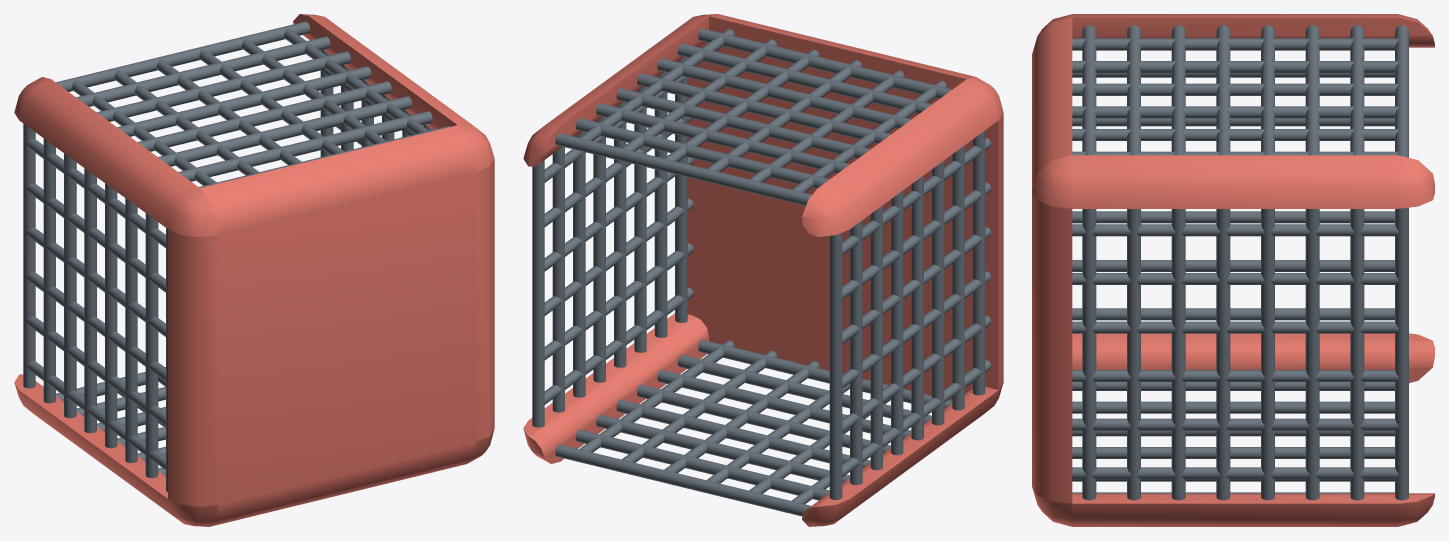
3 views of the same model, side by side, from view 1: azimuth 30°, elevation 25°; view 2: azimuth 150°, elevation 25°; view 3: azimuth 270°, elevation 25° (orthographic). The views are drawn at different scales.
Visible parts, largest first — view 1: Cube, Cylinder.030, Cylinder.035, Cylinder.044, Cylinder.003; view 2: Cube, Cylinder.030, Cylinder.035, Cylinder.003, Cylinder.044; view 3: Cube, Cylinder.003, Cylinder.035, Cylinder.030, Cylinder.044.
Boxes of the visible parts, box(x1,y1,x2,y2) form: Cube: box(14, 14, 494, 526); Cylinder.030: box(23, 123, 167, 491); Cylinder.035: box(56, 21, 449, 187); Cylinder.044: box(56, 367, 165, 476); Cylinder.003: box(320, 50, 431, 156); Cube: box(523, 14, 1003, 526); Cylinder.030: box(829, 130, 991, 499); Cylinder.035: box(555, 28, 952, 205); Cylinder.003: box(532, 57, 693, 427); Cylinder.044: box(555, 339, 952, 516); Cube: box(1032, 14, 1434, 526); Cylinder.003: box(1072, 207, 1408, 500); Cylinder.035: box(1072, 25, 1408, 157); Cylinder.030: box(1072, 73, 1394, 320); Cylinder.044: box(1072, 382, 1394, 493).
Bounding box in the file's own units: 2 × 2 × 1.98.
